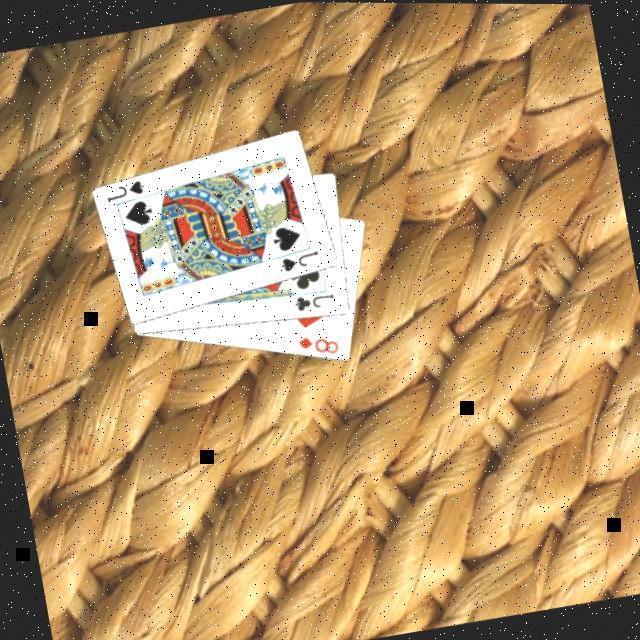8D: (292, 329, 342, 363)
JC: (288, 287, 337, 316)
JS: (275, 248, 322, 277), (99, 177, 147, 205)
